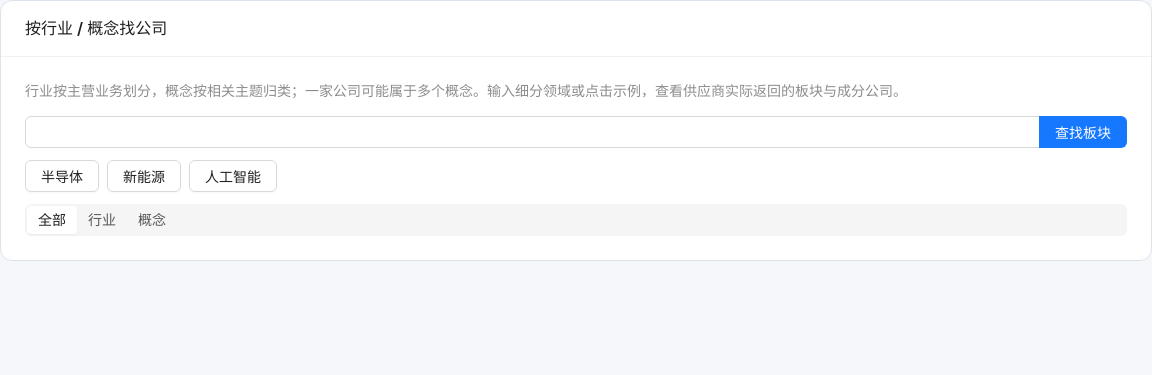
Test: DiscoverThemes：板块检索状态按关键词作用域（VS-39） › 改动输入框换成别的词后上一词的失败不得继续显示；切回旧词仍显示它自己的失败（不重发）
Click the button "半导体".
click(62, 176)  # box [25,160,99,192]
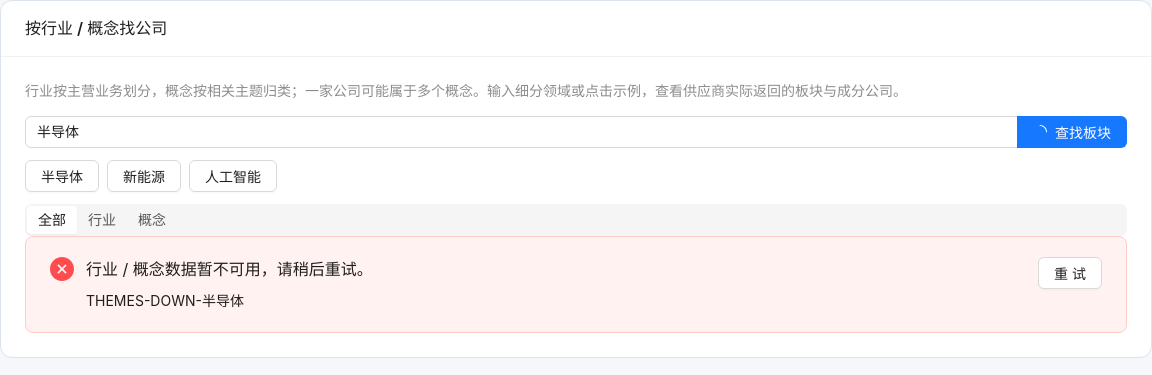
expect the text "THEMES-DOWN-半导体" is shown: met, box [86,292,244,309]
Replace the text in the search field named "按行业 / 概念找公司" with "新能源" at [522, 132], box [25,116,1018,148]
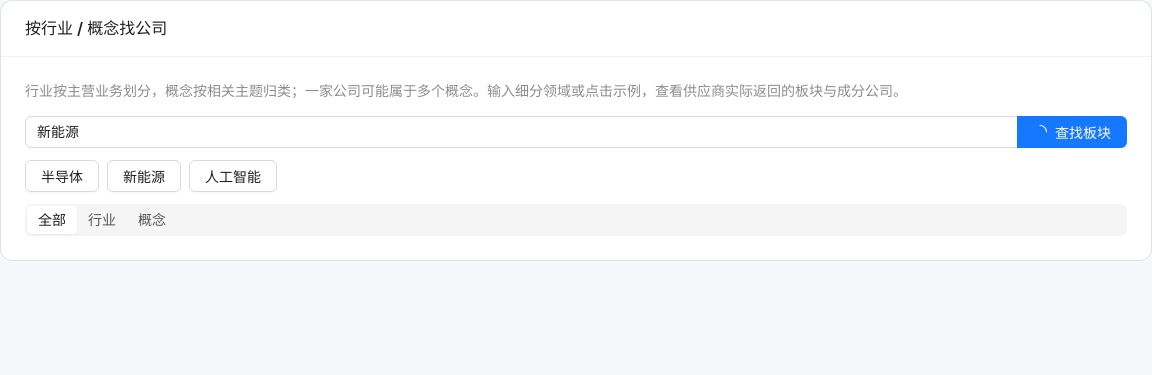
expect the text "行业 / 概念数据暂不可用" is gone: met
expect the text "THEMES-DOWN-半导体" is gone: met
Replace the text in the search field named "按行业 / 概念找公司" with "半导体" at [522, 132], box [25,116,1018,148]
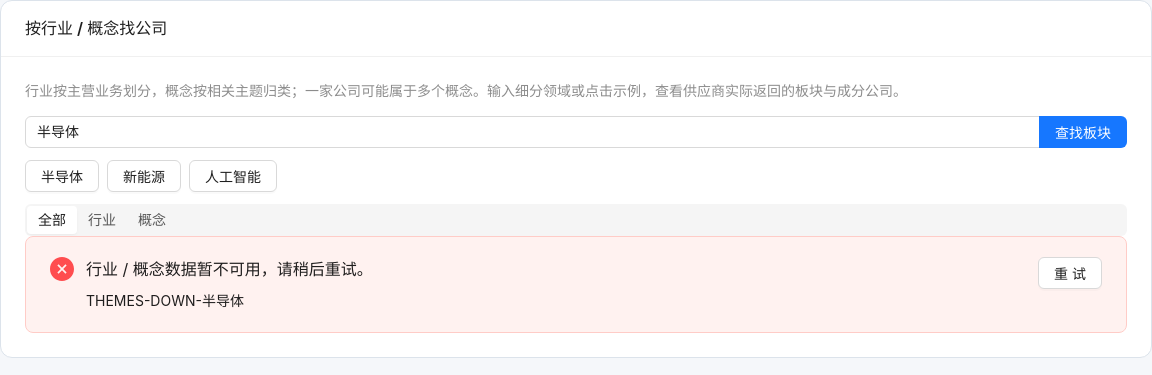
expect the text "THEMES-DOWN-半导体" is shown: met, box [86,292,244,309]
